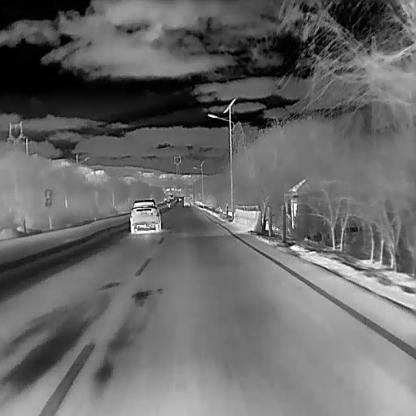car: (130, 197, 162, 235), (183, 194, 191, 207), (169, 193, 174, 201), (178, 196, 182, 201)
